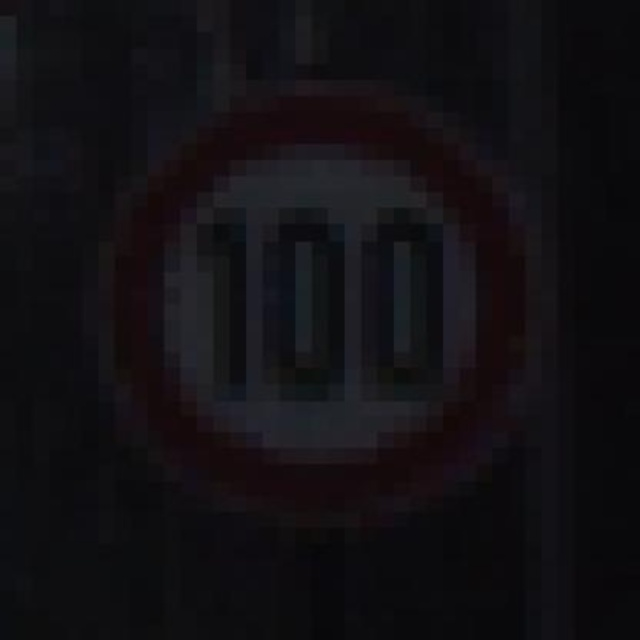Tốc độ tối đa cho phép 100km/h: (112, 98, 535, 513)
